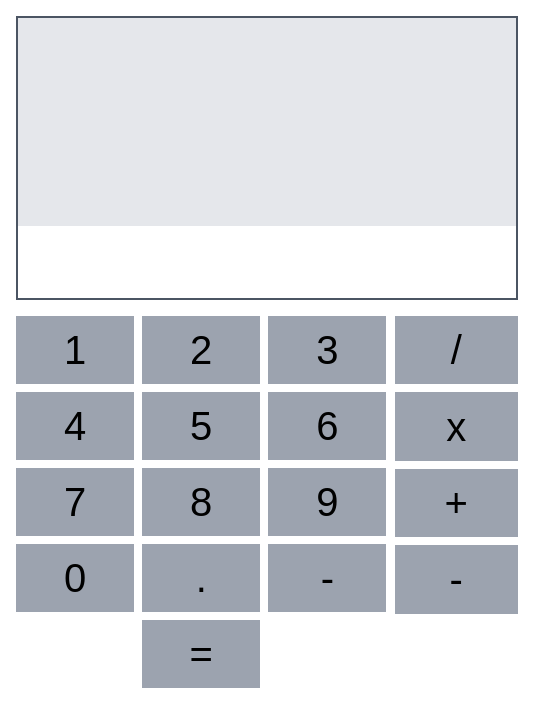
Scenario: Tests Page › calculator › should do the operations correctly › can do simple multiplication
Click the button "3". click: (327, 350)
box: left=268, top=316, right=386, bottom=384
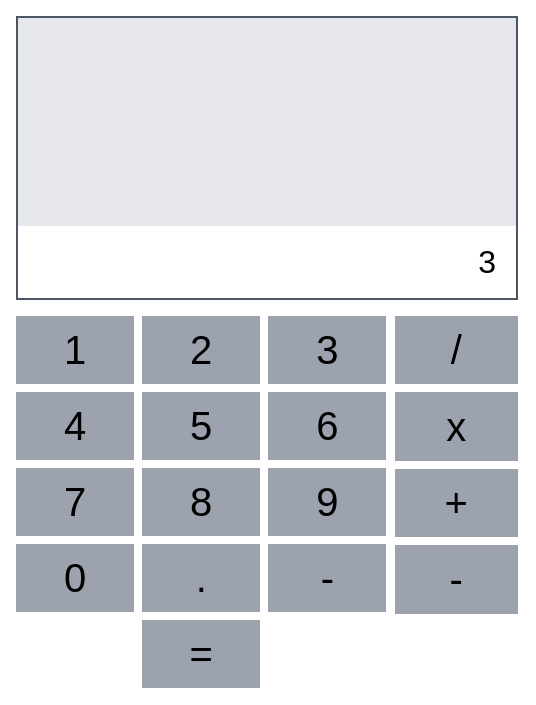
Click the button "x". click: (457, 426)
box: left=395, top=392, right=519, bottom=460
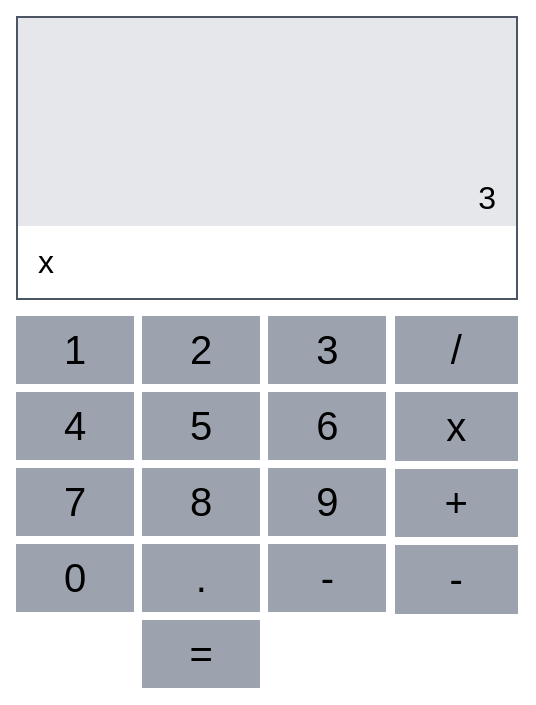
Click the button "4". click: (75, 426)
box: left=16, top=392, right=134, bottom=460
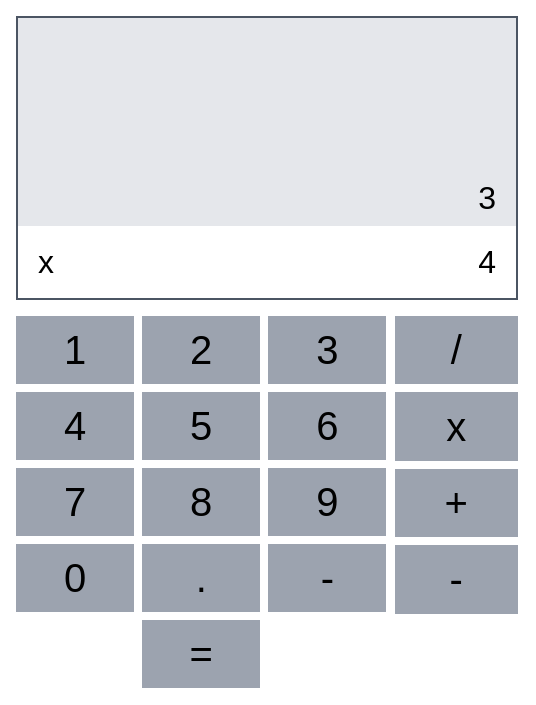
Click the button "=". click: (201, 654)
box: left=142, top=620, right=260, bottom=688
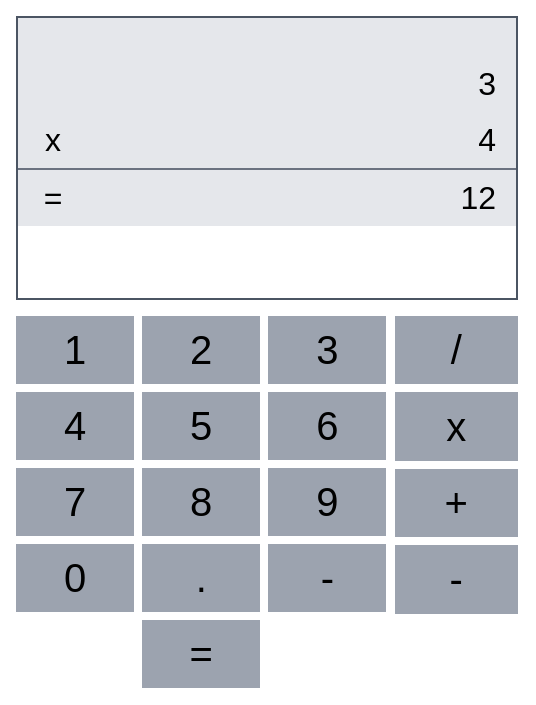
Check: the list item "= 12" is shown, box left=18, top=168, right=516, bottom=226
